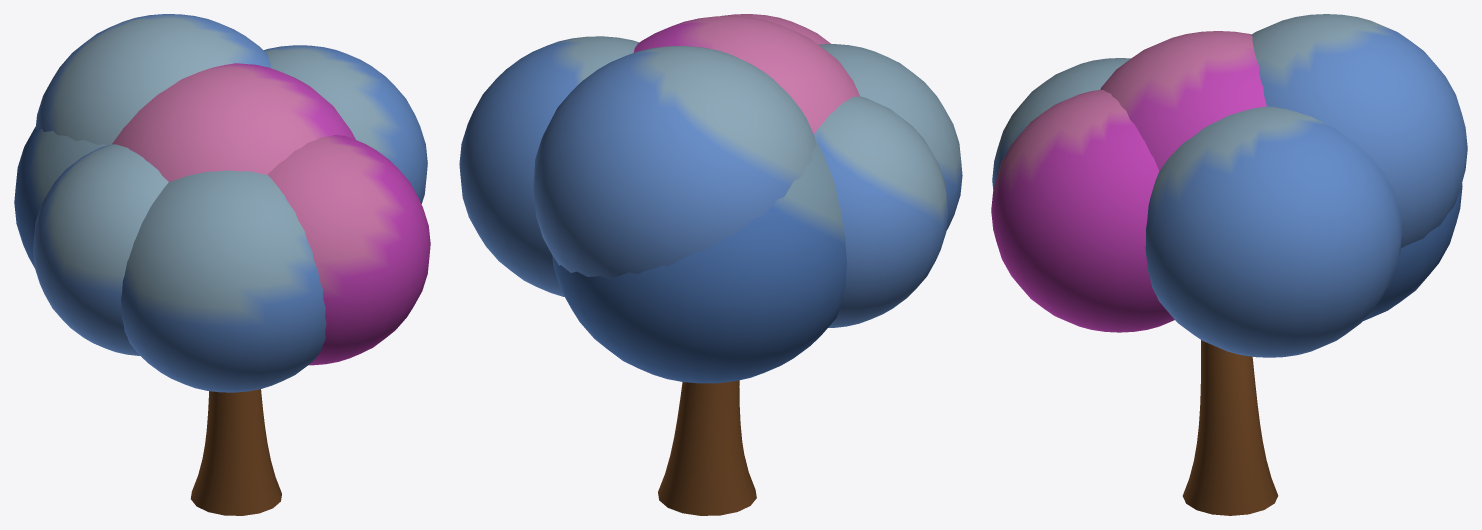
Rendered from tree-111.obj.
3 renders of one model, left to right at view 1: azimuth 30°, elevation 25°; view 2: azimuth 150°, elevation 25°; view 3: azimuth 270°, elevation 25°, orthographic. The views are drawn at different scales.
Parts seen in each view (by area): view 1: tree; view 2: tree; view 3: tree.
Boxes of the visible parts, box(x1,y1,x2,y2) form: tree: box(14, 14, 430, 515); tree: box(459, 14, 962, 515); tree: box(991, 14, 1467, 515).
Bounding box in the file's own units: 411 × 442 × 417.
